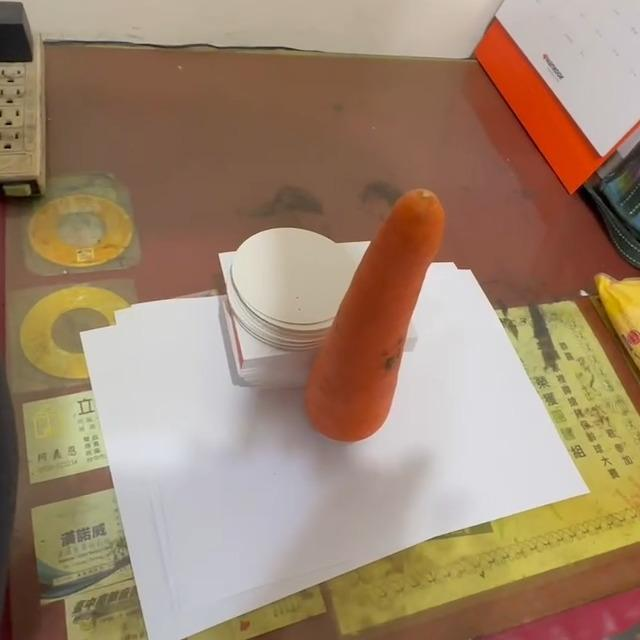carrot: (304, 187, 447, 446)
